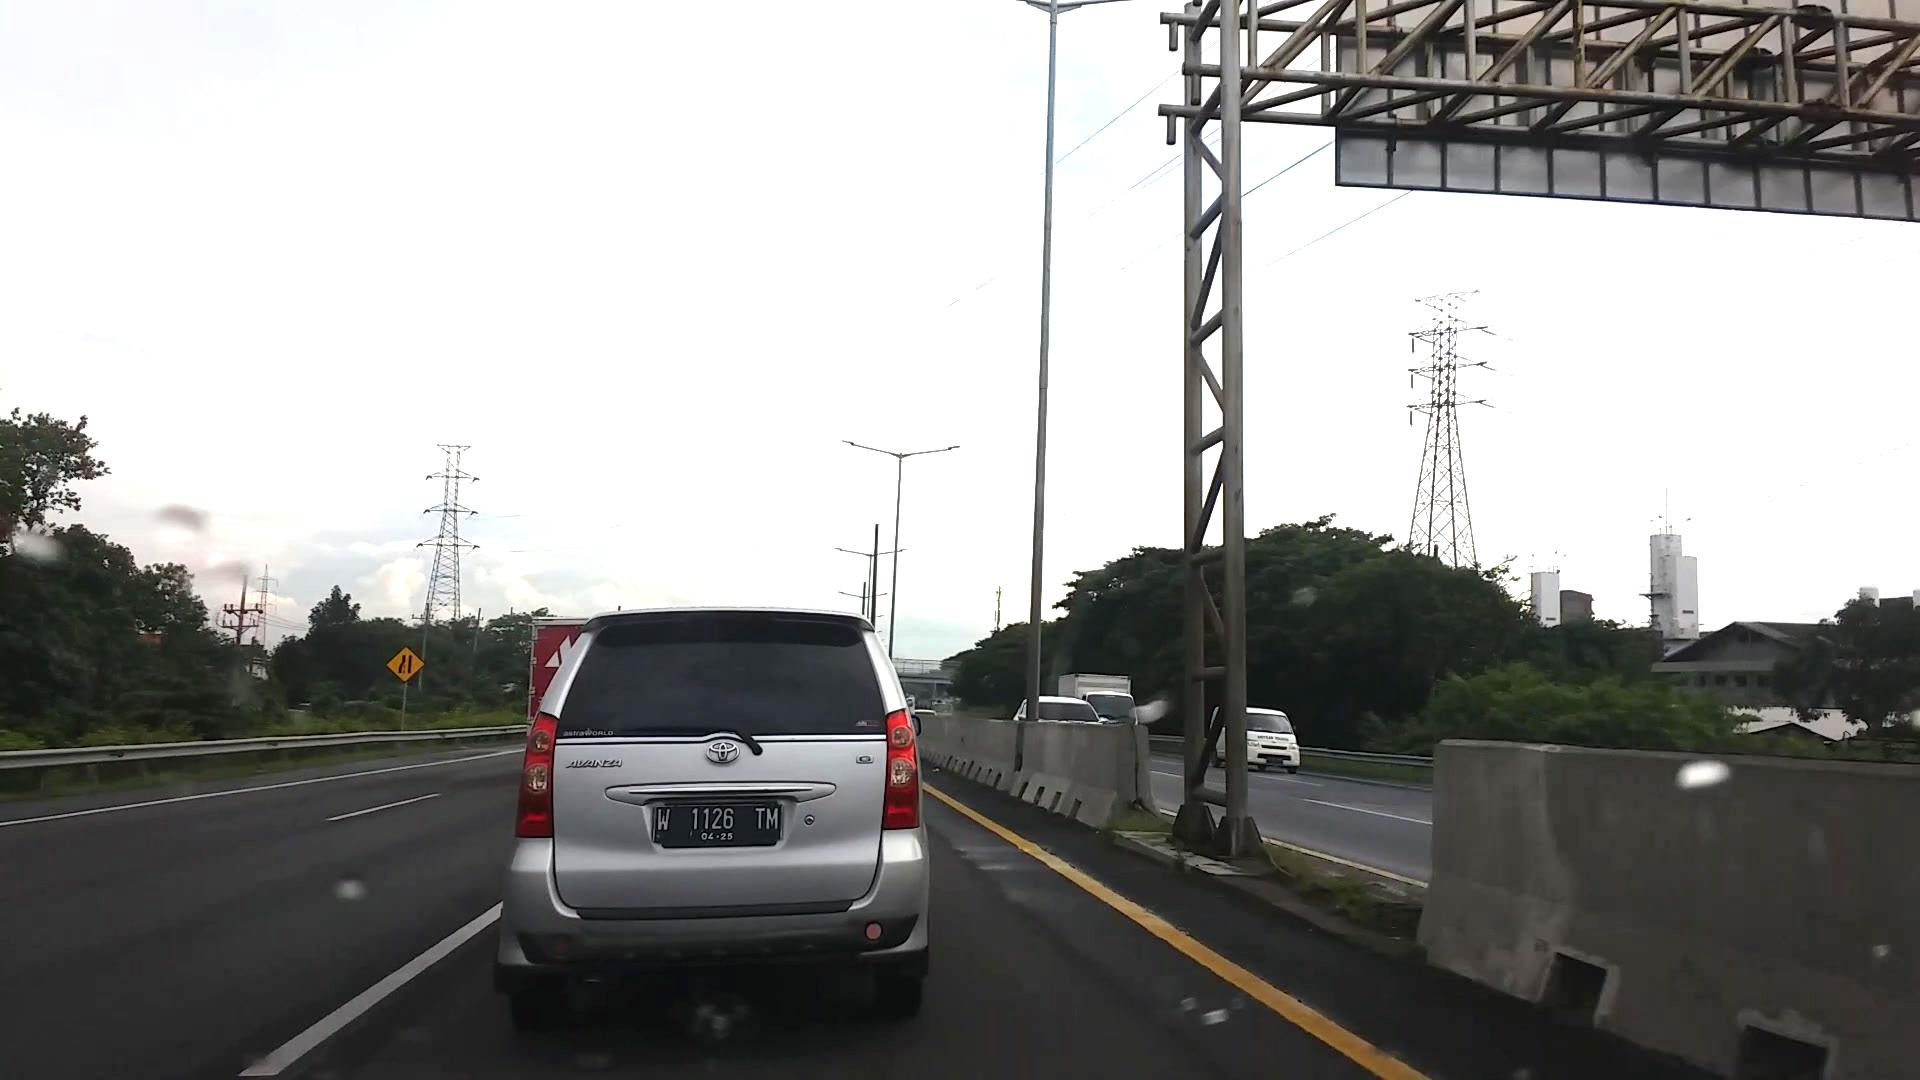plate_positive: (651, 803, 781, 847)
